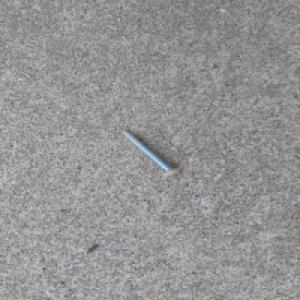Screw: (120, 128, 184, 177)
